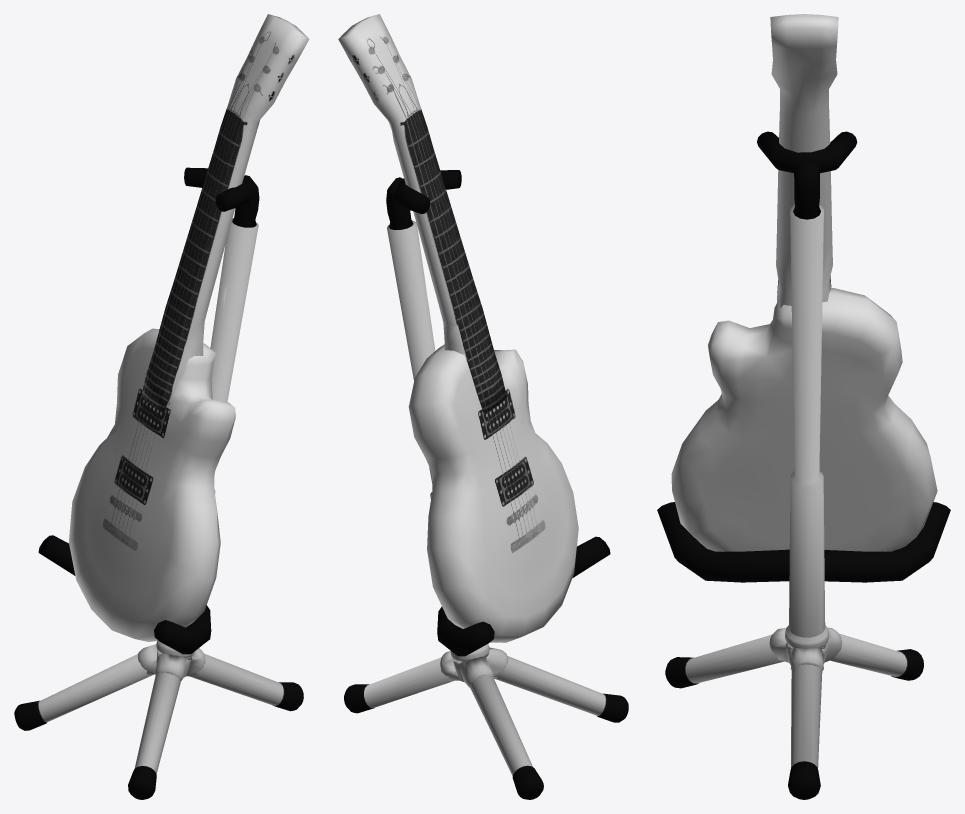
File: guitar.glb
3 views of the same model, side by side, from view 1: azimuth 30°, elevation 25°; view 2: azimuth 150°, elevation 25°; view 3: azimuth 270°, elevation 25° (orthographic). The views are drawn at different scales.
Parts seen in each view (by area): view 1: DD_Baked.001; view 2: DD_Baked.001; view 3: DD_Baked.001.
Boxes of the visible parts, bbox=[...] form: DD_Baked.001: bbox=[14, 14, 309, 799]; DD_Baked.001: bbox=[338, 14, 628, 799]; DD_Baked.001: bbox=[657, 14, 950, 799].
Bounding box in the file's own units: 0.4344 × 1.19 × 0.4063.
Materials: 1 (1 with a texture image).
